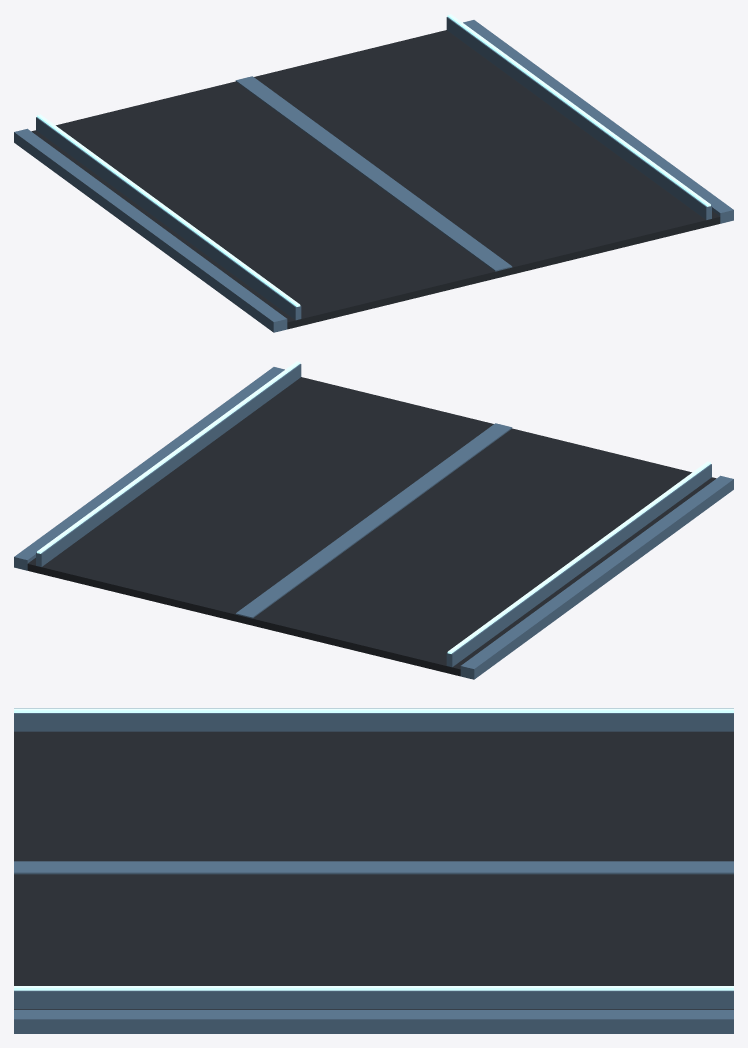
The model's file is road_future_wide.glb.
3 views of the same model, one above another, from view 1: azimuth 30°, elevation 25°; view 2: azimuth 150°, elevation 25°; view 3: azimuth 270°, elevation 25° (orthographic). The views are drawn at different scales.
Visible parts, largest first — view 1: body; view 2: body; view 3: body.
Part boxes in pixels (x1,y1,x2,y2): body: (14,14,733,332); body: (14,361,733,679); body: (14,708,733,1033).
Size of what is drawn, in the model's own units: 8.18 by 0.37 by 8.
